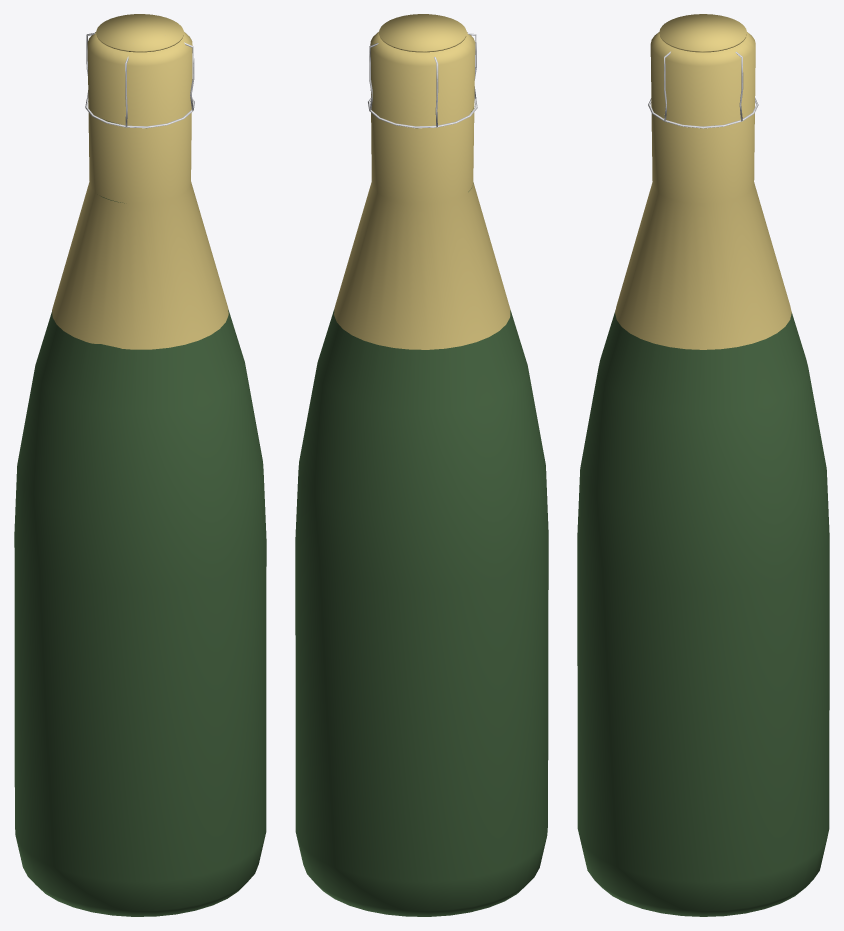
Rendered from bottle_champagne_lod1.glb.
The picture shows the model from 3 angles, left to right: view 1: azimuth 30°, elevation 25°; view 2: azimuth 150°, elevation 25°; view 3: azimuth 270°, elevation 25°; orthographic projection.
Parts seen in each view (by area): view 1: Glass, Cap, Cage; view 2: Glass, Cap, Cage; view 3: Glass, Cap, Cage.
Part boxes in pixels (x1,y1,x2,y2): Glass: (14,118,266,916); Cap: (52,31,228,349); Cage: (85,14,194,128); Glass: (295,106,548,916); Cap: (334,31,510,349); Cage: (368,14,477,128); Glass: (577,312,829,916); Cap: (615,32,791,349); Cage: (648,14,758,128).
Size of the model in its own units: 0.0868 by 0.318 by 0.0865.
